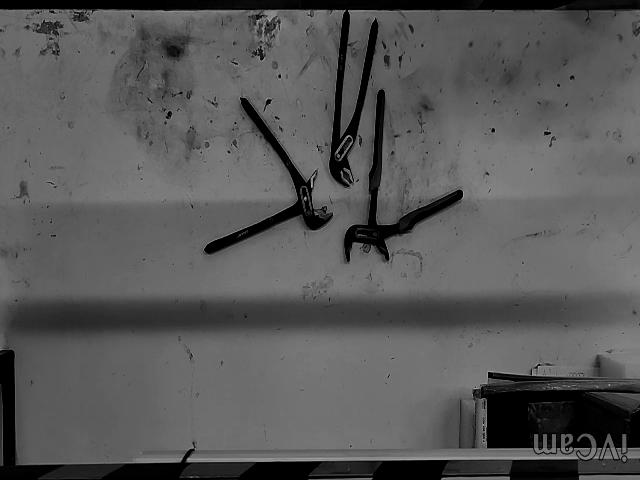Gas wrench: (345, 90, 464, 262), (205, 98, 332, 253), (330, 11, 379, 188)
